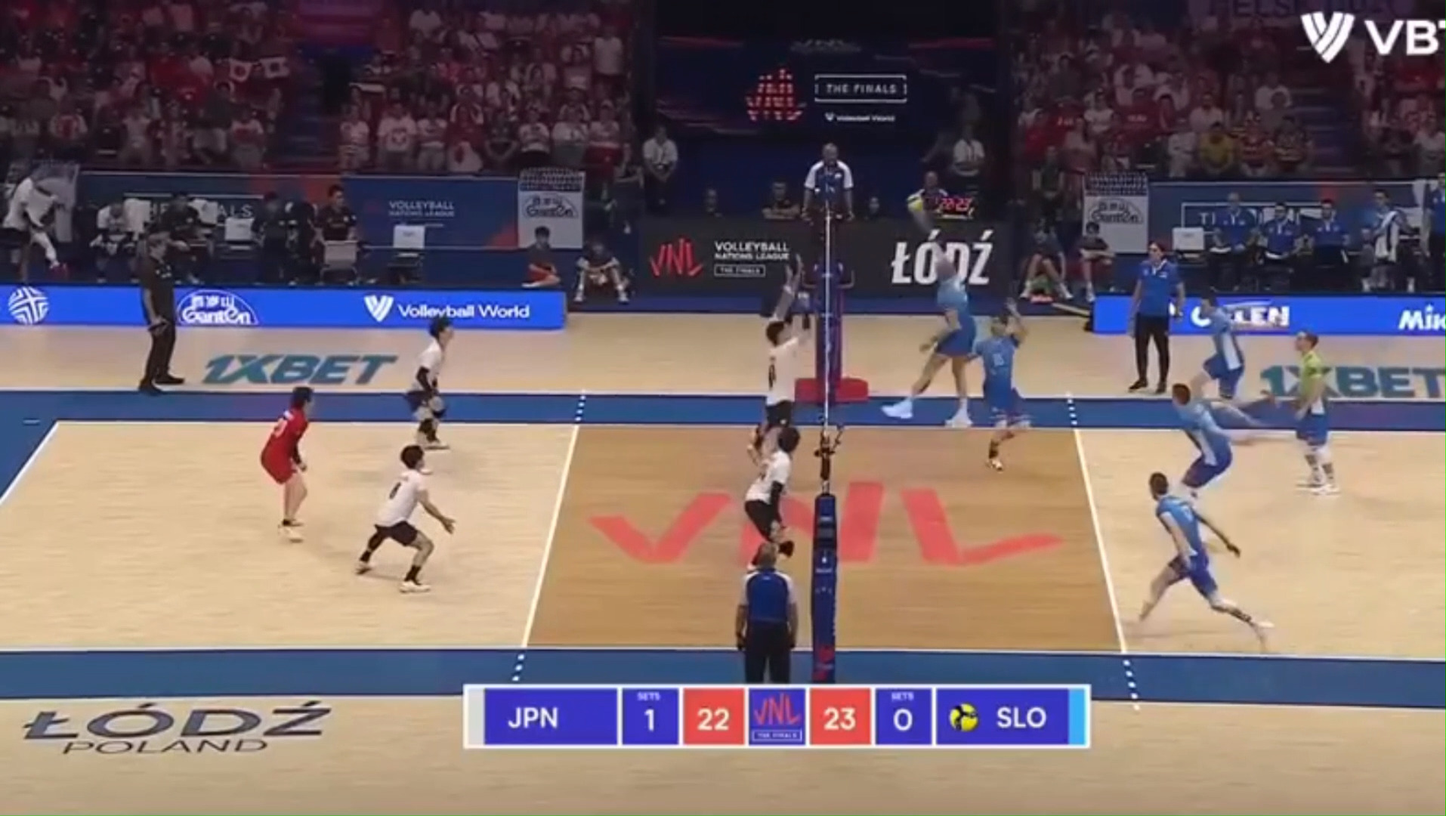ball: (907, 193, 924, 212)
player: (1139, 472, 1268, 643), (883, 255, 976, 427), (966, 301, 1030, 469), (1171, 383, 1258, 502), (1294, 331, 1338, 493), (1190, 293, 1245, 406), (1241, 320, 1272, 328)
player 1: (356, 444, 454, 592), (749, 274, 802, 464), (260, 386, 314, 541), (743, 426, 800, 557), (405, 317, 454, 450)
referee: (801, 143, 862, 287), (735, 542, 797, 683), (1129, 242, 1185, 392), (135, 230, 184, 394)
